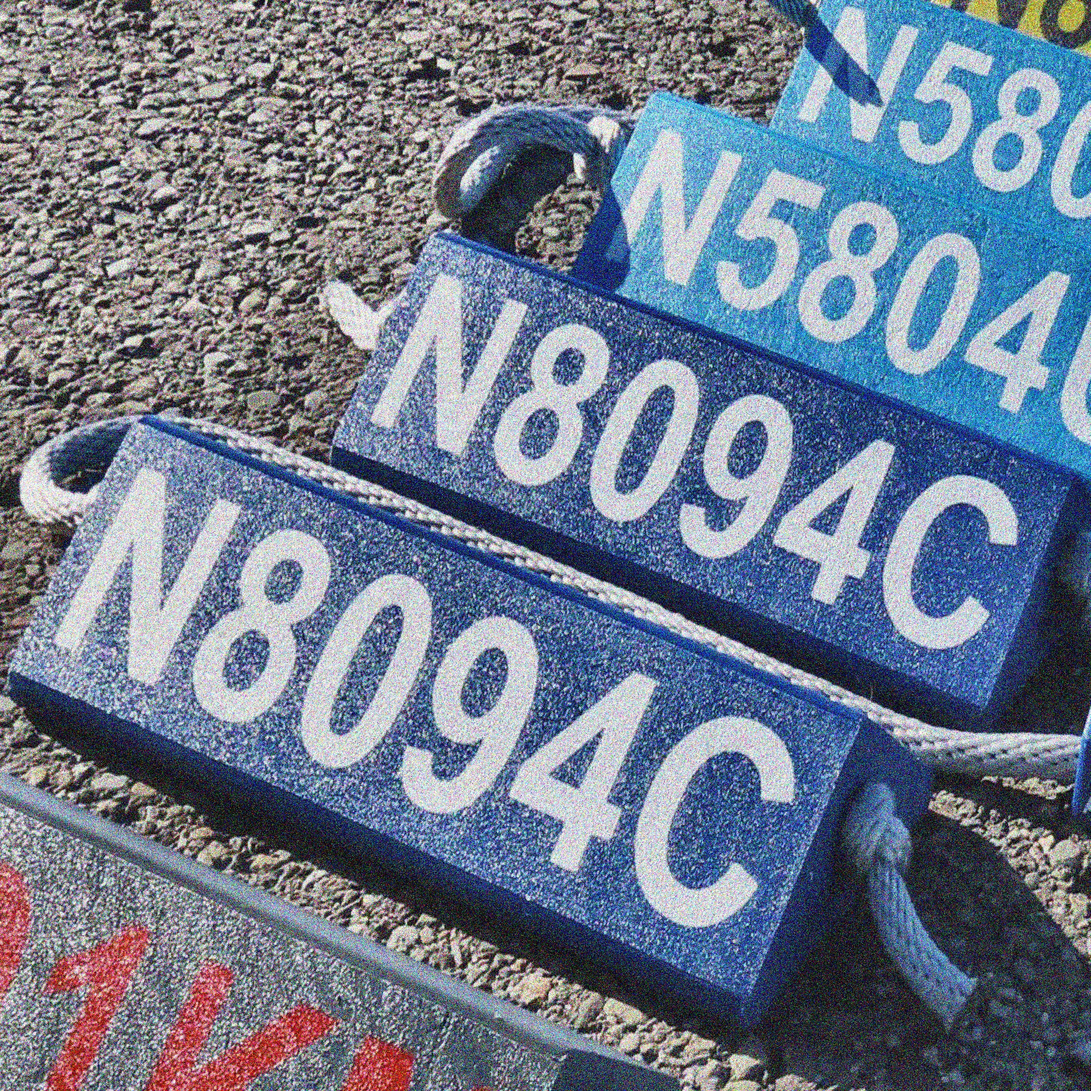chock: (0, 347, 952, 1091), (312, 194, 1091, 815), (0, 648, 697, 1091), (560, 69, 1091, 590), (753, 0, 1091, 388), (902, 0, 1091, 218)
